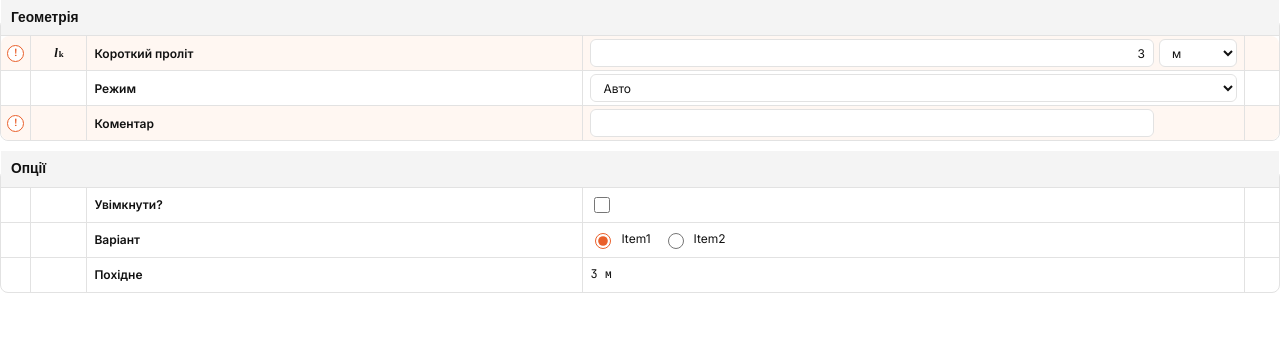
Test: InputSchemaForm › replaces field help with one error action that reveals description and errors
Click the button named "Показати помилку поля Короткий проліт".
click(16, 53)  # box [7,45,24,62]
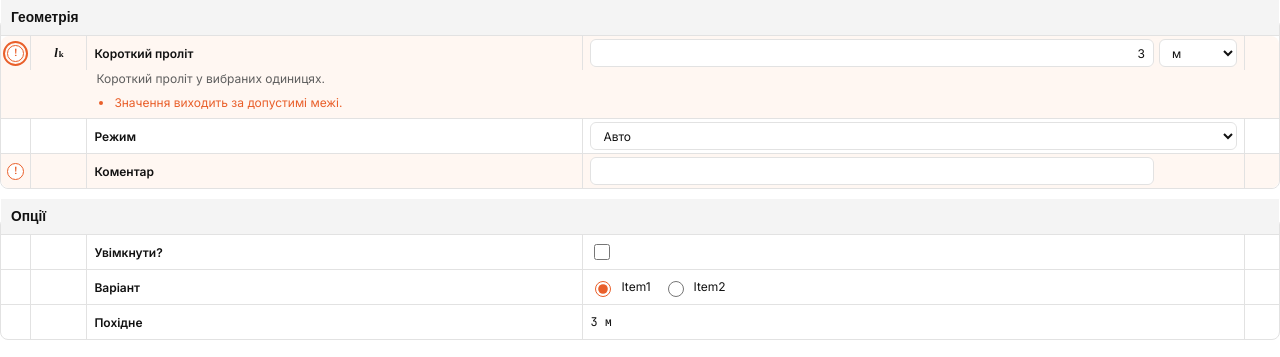
expect the text "Короткий проліт у вибраних одиницях." is shown: met, box [96,71,325,86]
expect the list item "Значення виходить за допустимі межі." is shown: met, box [114,95,342,110]
